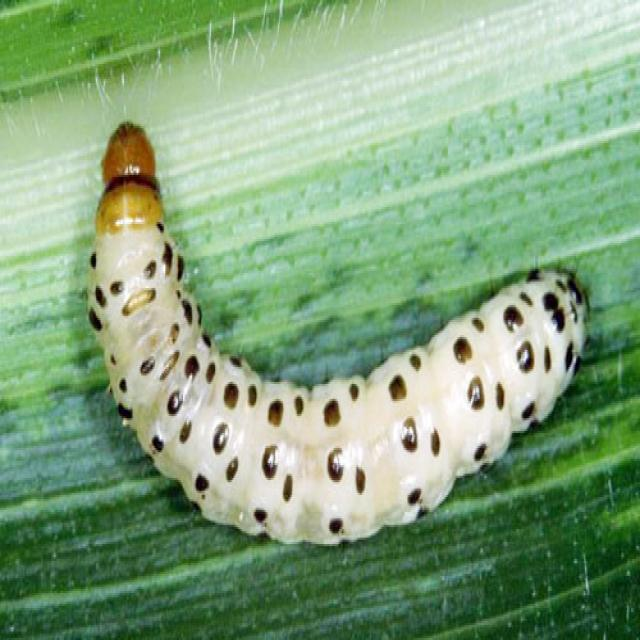cornborer-Larva-: (83, 113, 611, 566)
